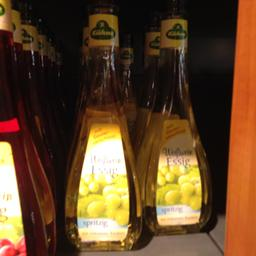vinegar: (61, 10, 152, 249), (136, 17, 221, 233)
